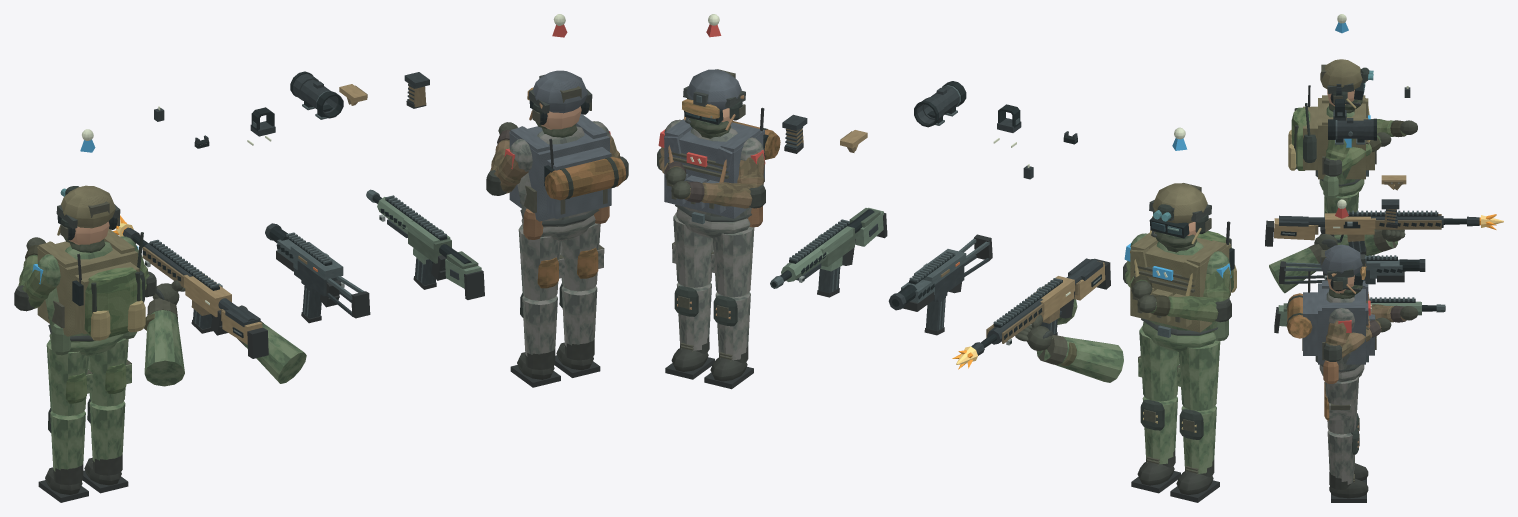
File: field-actors.glb
3 renders of one model, left to right at view 1: azimuth 30°, elevation 25°; view 2: azimuth 150°, elevation 25°; view 3: azimuth 270°, elevation 25°, orthographic. The views are drawn at different scales.
Parts seen in each view (by area): view 1: a/torso, e/torso, Left shin (×2), Right shin (×2), Left thigh (×2), mr7, Right thigh (×2), ar4, vx9, left_hand, a/head, e/head (+5 smaller); view 2: e/torso, a/torso, Left shin (×2), Right shin (×2), Left thigh (×2), Right thigh (×2), mr7, ar4, vx9, left_hand, e/head, a/head (+7 smaller); view 3: e/torso, a/torso, mr7, Right shin, Right thigh (×2), vx9, e/head, a/head, right_hand, e/r_upper, optic_scope, ar4 (+9 smaller).
Boxes of the visible parts, bbox=[...] form: a/torso: bbox=[37, 229, 145, 356]; e/torso: bbox=[509, 114, 626, 241]; Left shin (×2): bbox=[38, 293, 560, 502]; Right shin (×2): bbox=[82, 283, 600, 493]; Left thigh (×2): bbox=[46, 224, 564, 416]; mr7: bbox=[123, 227, 268, 358]; Right thigh (×2): bbox=[88, 223, 604, 406]; ar4: bbox=[366, 189, 484, 299]; vx9: bbox=[265, 223, 370, 318]; left_hand: bbox=[144, 280, 185, 386]; a/head: bbox=[56, 185, 120, 254]; e/head: bbox=[527, 70, 592, 139]; e/torso: bbox=[664, 108, 780, 238]; a/torso: bbox=[1130, 222, 1236, 351]; Left shin (×2): bbox=[704, 292, 1219, 502]; Right shin (×2): bbox=[665, 282, 1180, 493]; Left thigh (×2): bbox=[711, 226, 1220, 410]; Right thigh (×2): bbox=[672, 212, 1179, 401]; mr7: bbox=[971, 258, 1110, 355]; ar4: bbox=[770, 207, 887, 288]; vx9: bbox=[888, 234, 992, 311]; left_hand: bbox=[1015, 314, 1123, 382]; e/head: bbox=[682, 69, 763, 134]; a/head: bbox=[1149, 183, 1229, 247]; e/torso: bbox=[1286, 271, 1376, 383]; a/torso: bbox=[1288, 86, 1376, 198]; mr7: bbox=[1265, 210, 1479, 246]; Right shin: bbox=[1327, 427, 1368, 502]; Right thigh (×2): bbox=[1324, 191, 1359, 434]; vx9: bbox=[1279, 255, 1425, 284]; e/head: bbox=[1308, 244, 1366, 295]; a/head: bbox=[1308, 59, 1373, 110]; right_hand: bbox=[1269, 234, 1337, 293]; e/r_upper: bbox=[1323, 308, 1354, 361]; optic_scope: bbox=[1328, 118, 1376, 144]; ar4: bbox=[1274, 297, 1445, 333].
Bounding box in the file's own units: 3.65 × 2.12 × 1.58.
1 material, 1 textured.
